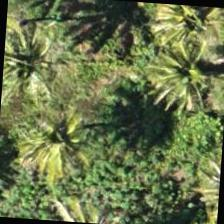Kelapa_Sawit: (17, 88, 113, 184), (136, 25, 223, 123), (0, 16, 82, 110)
